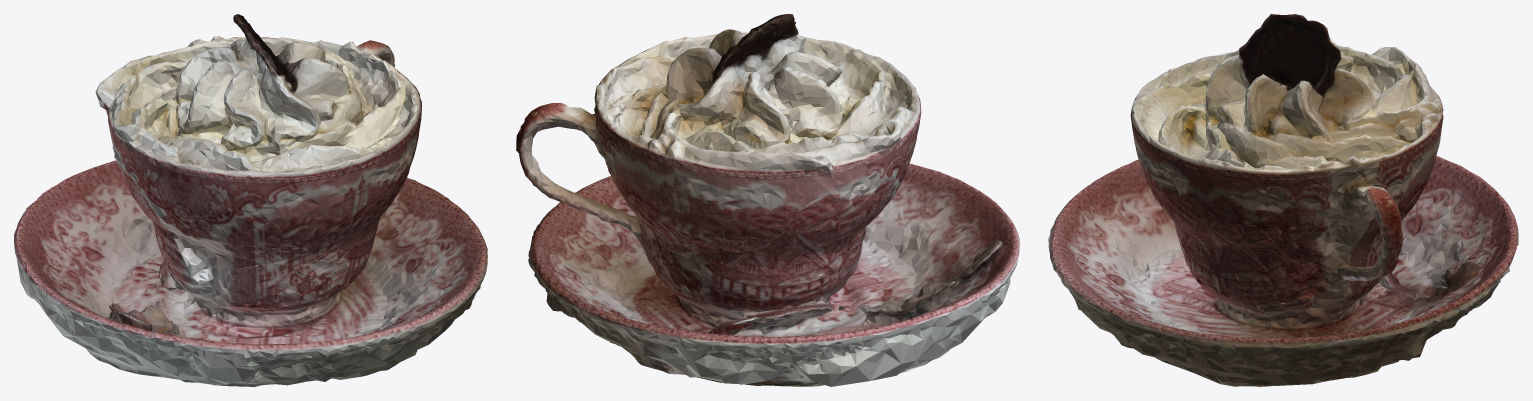
File: Vienna_coffee.glb
3 views of the same model, side by side, from view 1: azimuth 30°, elevation 25°; view 2: azimuth 150°, elevation 25°; view 3: azimuth 270°, elevation 25° (orthographic). The views are drawn at different scales.
Parts seen in each view (by area): view 1: model; view 2: model; view 3: model.
Part boxes in pixels (x1,y1,x2,y2): model: (14, 14, 487, 386); model: (516, 14, 1019, 386); model: (1048, 14, 1518, 386).
Bounding box in the file's own units: 0.2386 × 0.1624 × 0.2374.
Materials: 1 (1 with a texture image).
